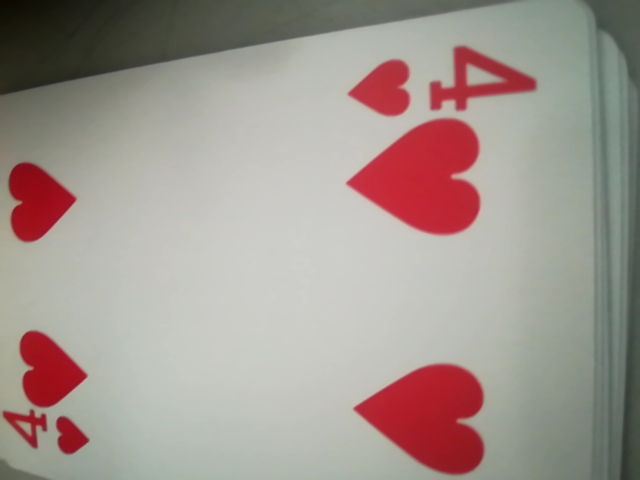hx 4: (341, 35, 542, 125)
